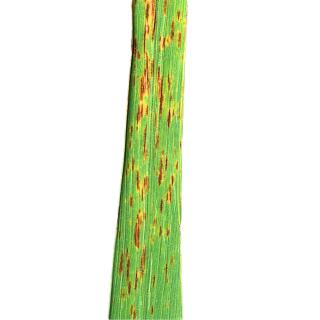Bercak-Cokelat-Sempit: (129, 204, 175, 247), (141, 54, 162, 129), (153, 136, 178, 196), (117, 249, 145, 296), (141, 1, 157, 51), (130, 157, 144, 200), (164, 264, 176, 286), (168, 20, 175, 50), (134, 104, 142, 126), (127, 305, 139, 319), (160, 34, 168, 52), (162, 0, 169, 16), (178, 33, 183, 52), (176, 10, 183, 20), (152, 274, 157, 288), (149, 305, 155, 315)
